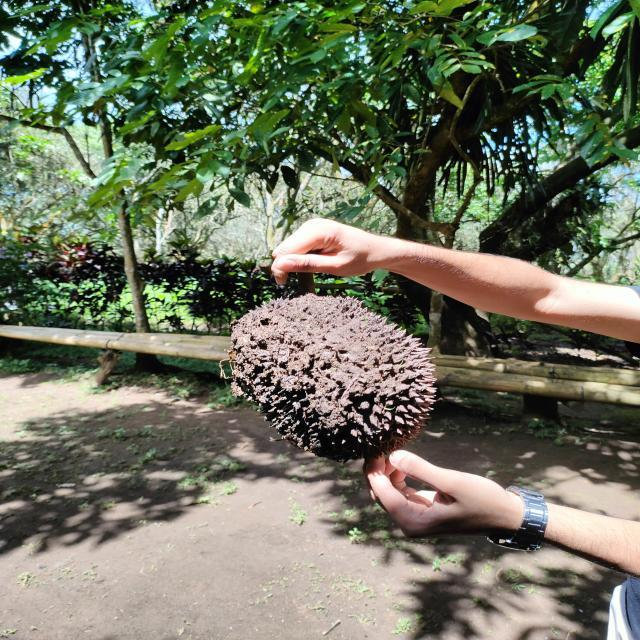defective: (221, 286, 441, 462)
